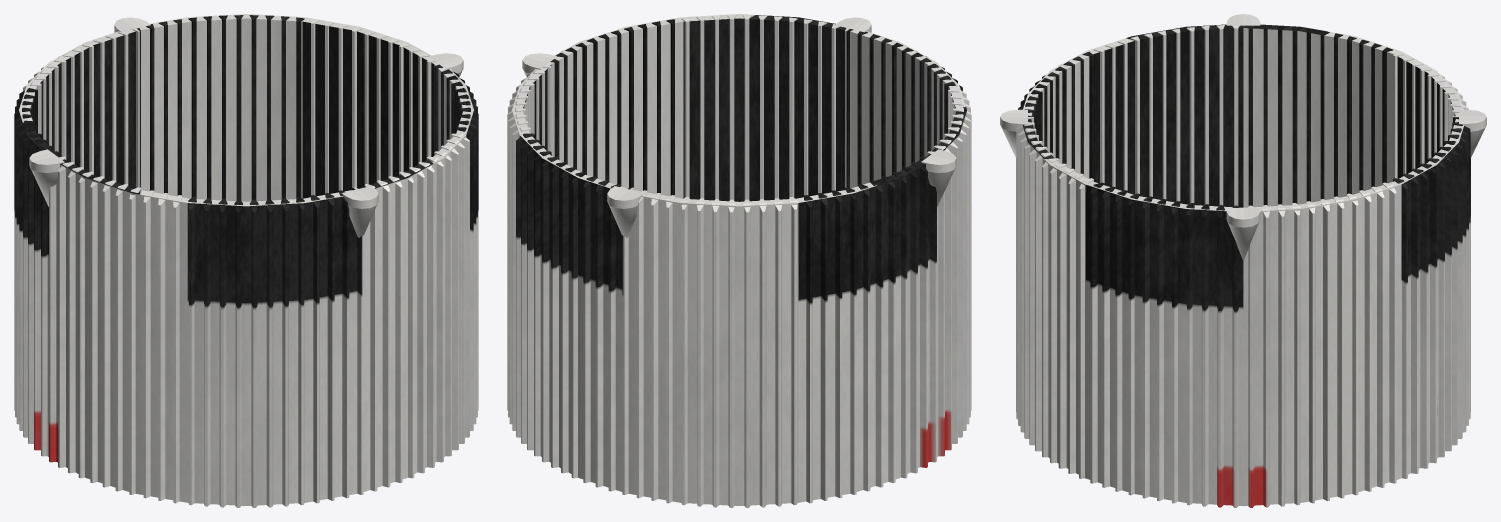
Rendered from ksprocket.fbx.
3 views of the same model, side by side, from view 1: azimuth 30°, elevation 25°; view 2: azimuth 150°, elevation 25°; view 3: azimuth 270°, elevation 25° (orthographic).
Parts seen in each view (by area): view 1: tank.017; view 2: tank.017; view 3: tank.017.
Part boxes in pixels (left/top/right/bottom): tank.017: left=14, top=14, right=478, bottom=507; tank.017: left=507, top=14, right=971, bottom=507; tank.017: left=1000, top=14, right=1486, bottom=507.
Bounding box in the file's own units: 916 × 613 × 916.
